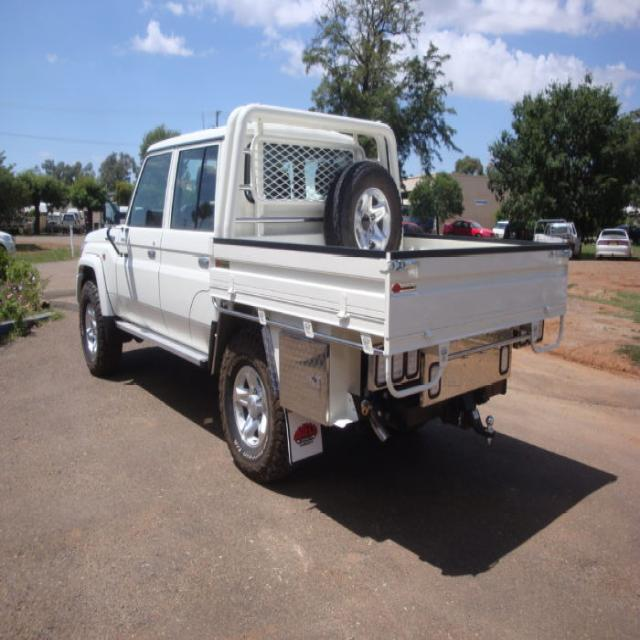light_vehicle: (70, 98, 572, 512)
